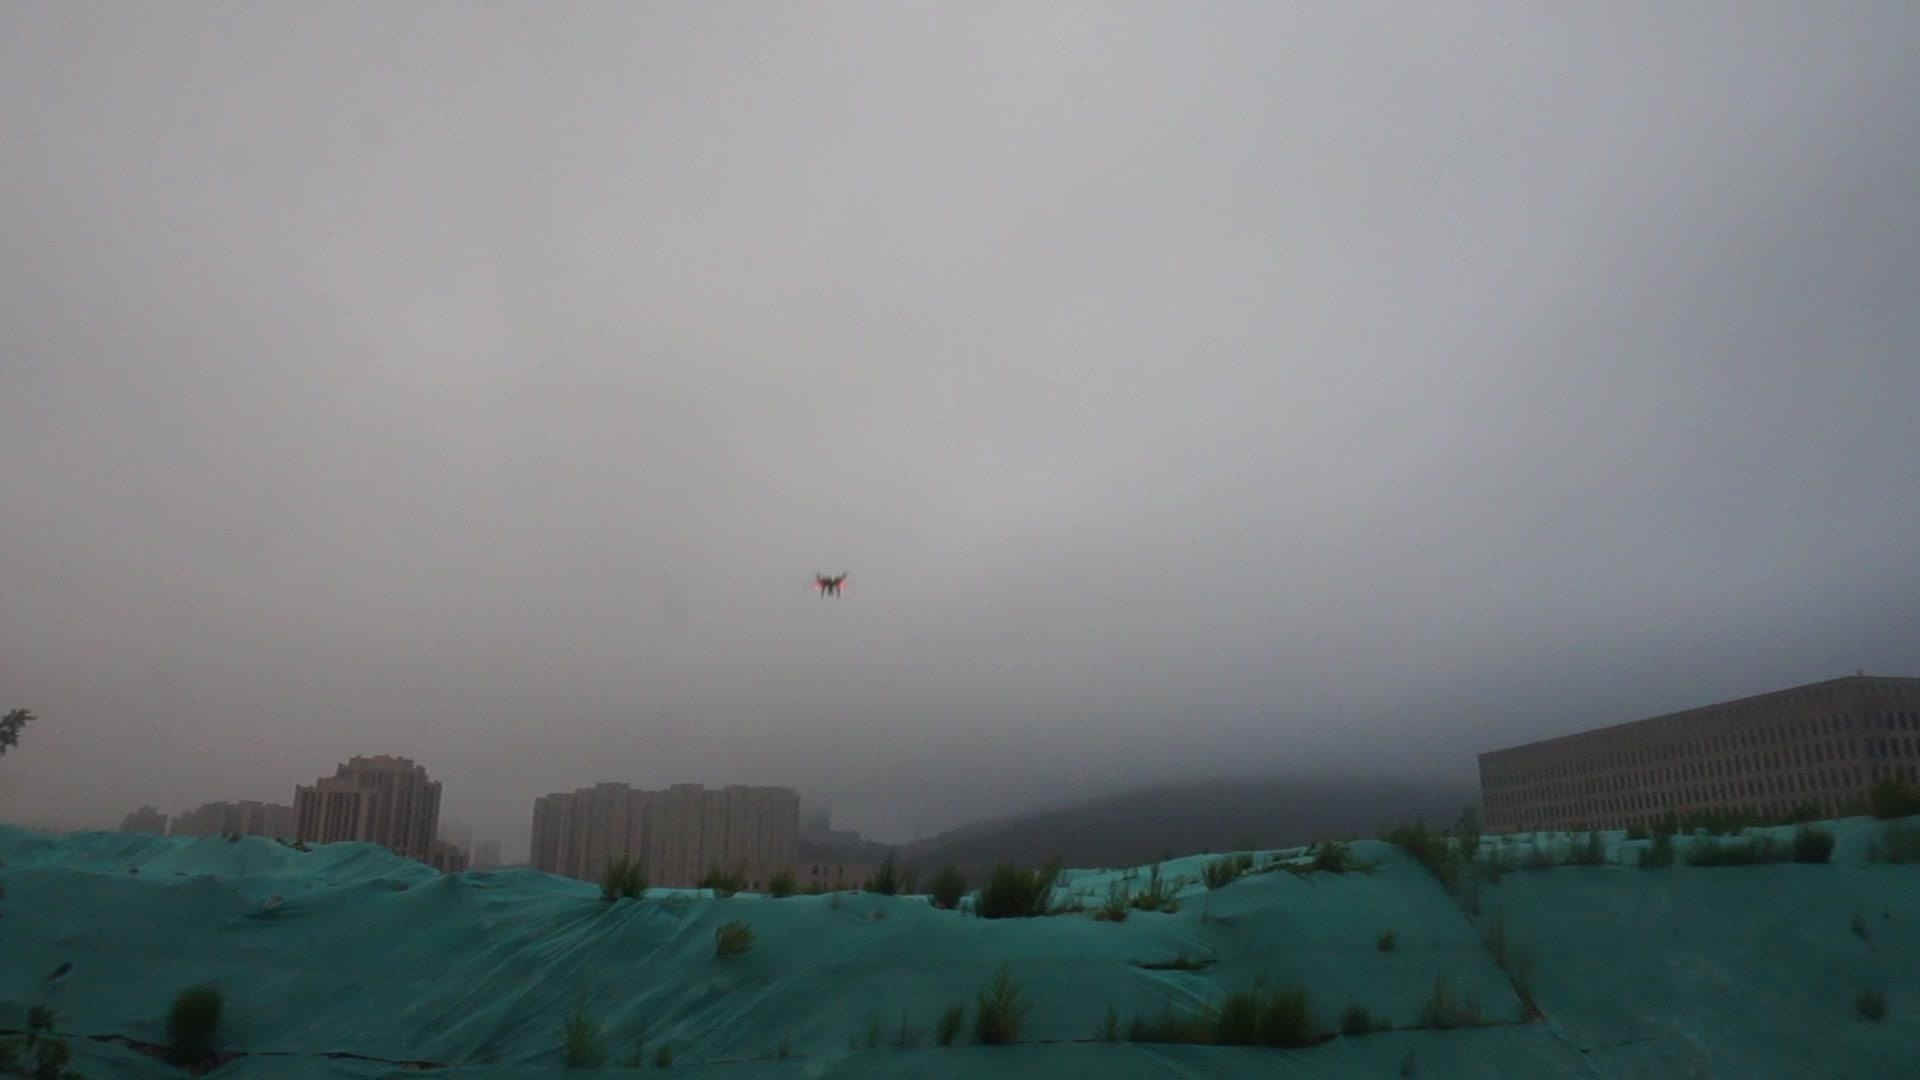UAV: (814, 572, 849, 601)
